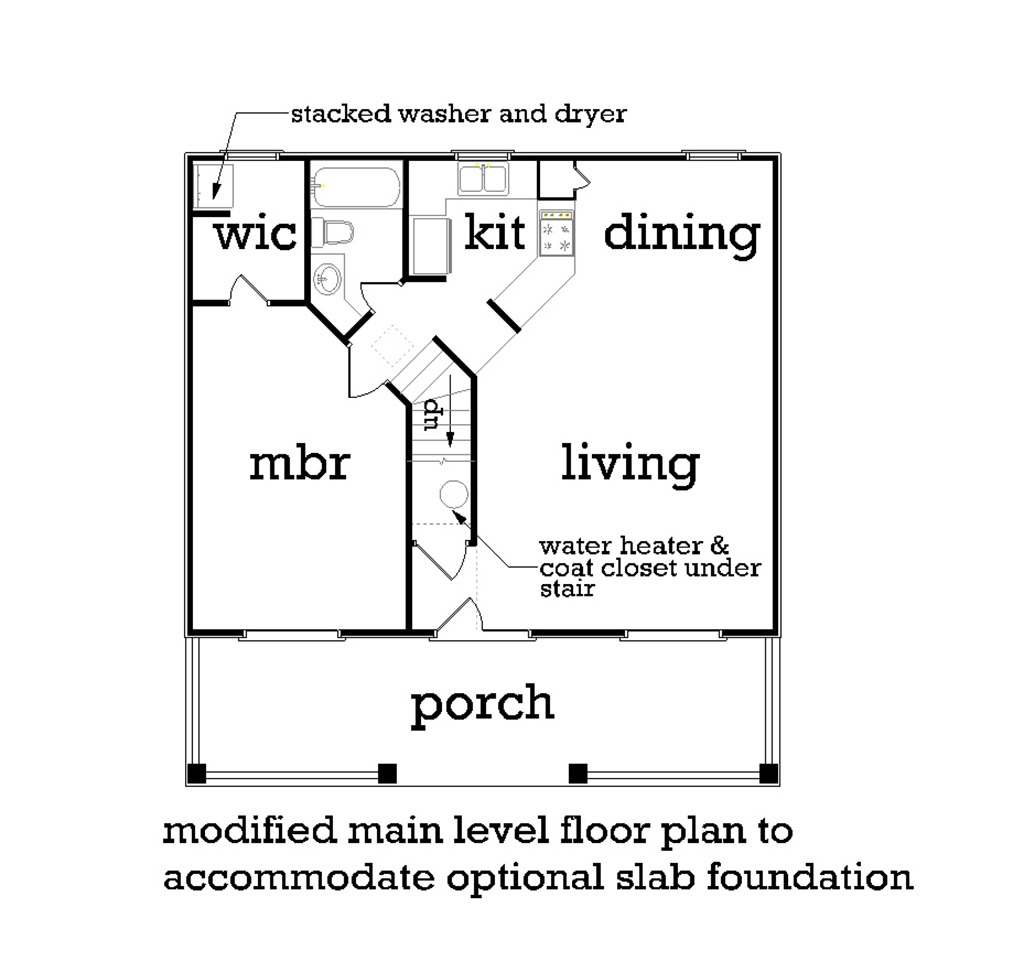door: (336, 336, 389, 401), (434, 596, 485, 636), (229, 271, 274, 309)
large_sink: (311, 217, 357, 251)
small_sink: (308, 252, 344, 306)
stairs: (389, 335, 479, 525)
tub: (309, 159, 406, 212)
twin_sink: (455, 161, 512, 198)
windows: (235, 624, 344, 646), (617, 624, 727, 642), (679, 145, 744, 164)
